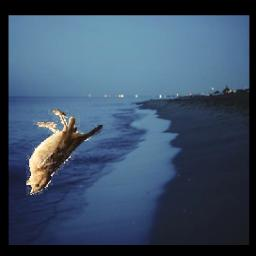Sparrow: (25, 109, 104, 196)
